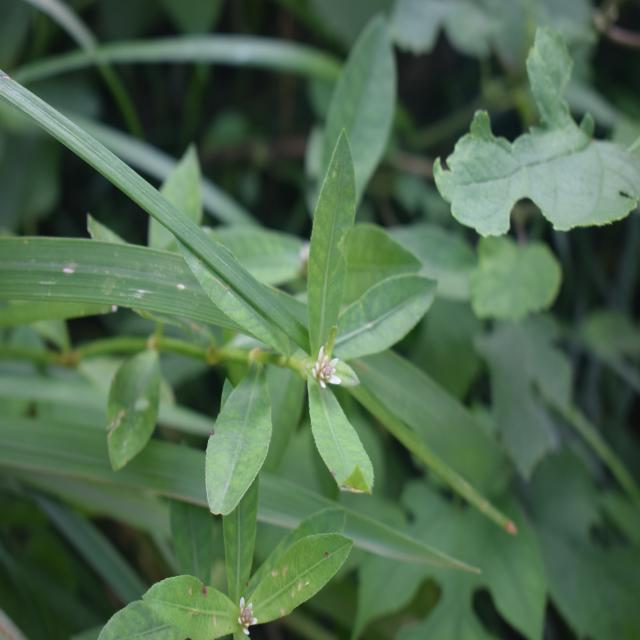Alligatorweed: (88, 123, 406, 509)
